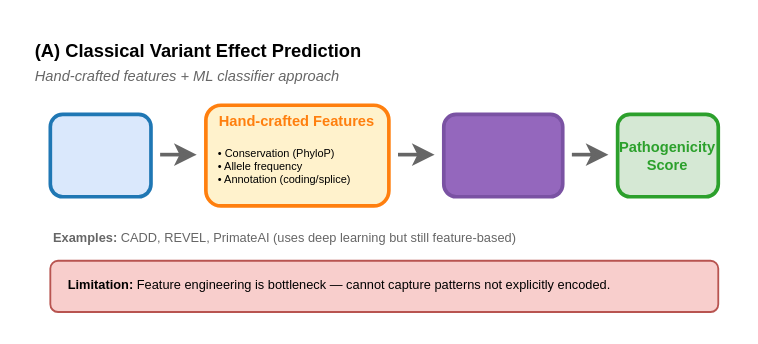
Some shapes in this 758 by 344 pixel diagram are drawn without their labels. The shapes that lost their labels are listed below. From the top down, each one's box as (x1, y1, x2, y2) in pixels, then its label:
(48, 112, 152, 198): Variant chr:pos:ref>alt
(441, 112, 564, 198): ML Classifier (GBT, RF)
